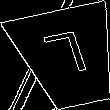L_S: (41, 29, 95, 86)
